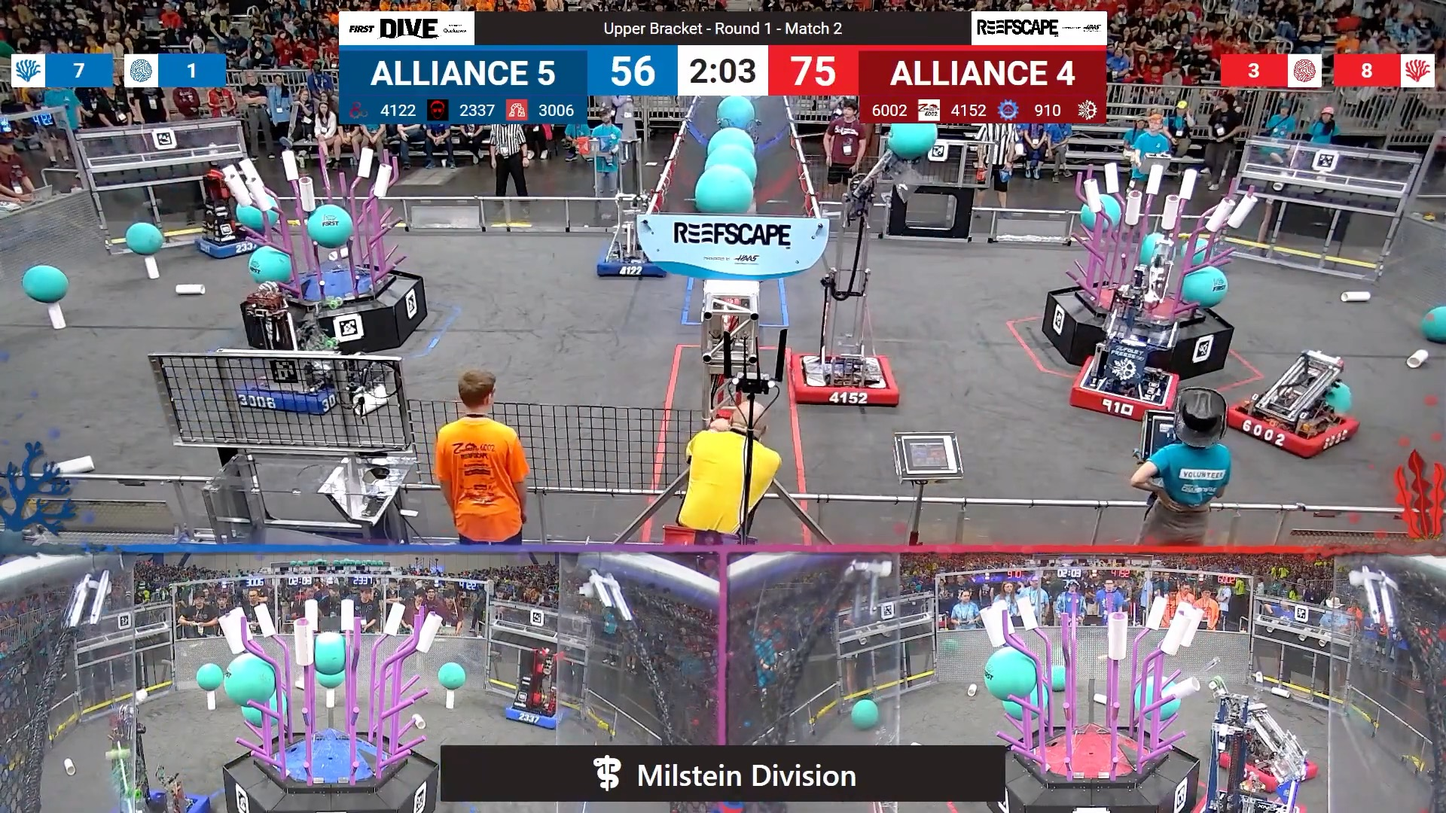bumpers: (1215, 392, 1362, 458), (782, 348, 902, 414), (235, 356, 353, 421), (1063, 359, 1182, 422), (1207, 748, 1323, 799), (590, 240, 673, 280), (189, 227, 274, 263), (498, 695, 572, 732), (98, 791, 218, 813)
